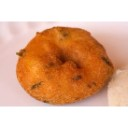vada: (16, 26, 113, 102)
